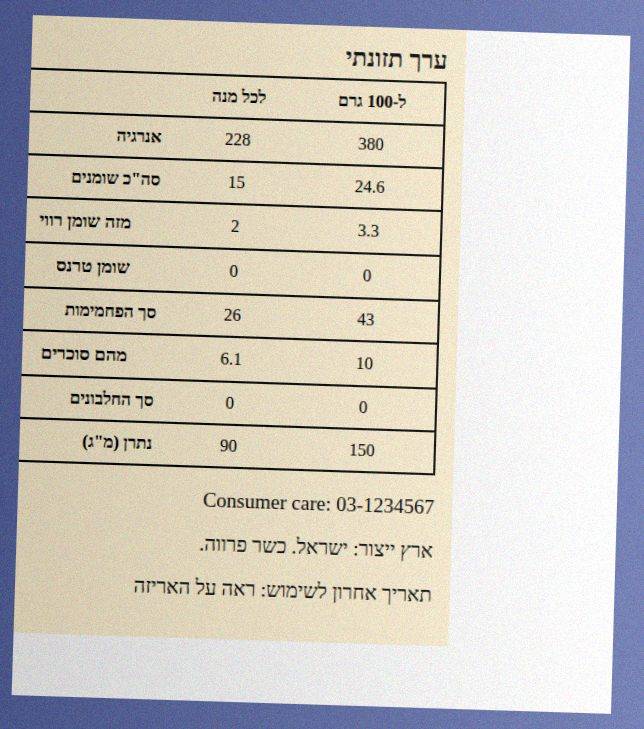carbs: (355, 308, 377, 331)
energy: (356, 132, 386, 156)
fat: (352, 175, 387, 199)
protein: (356, 396, 370, 419)
